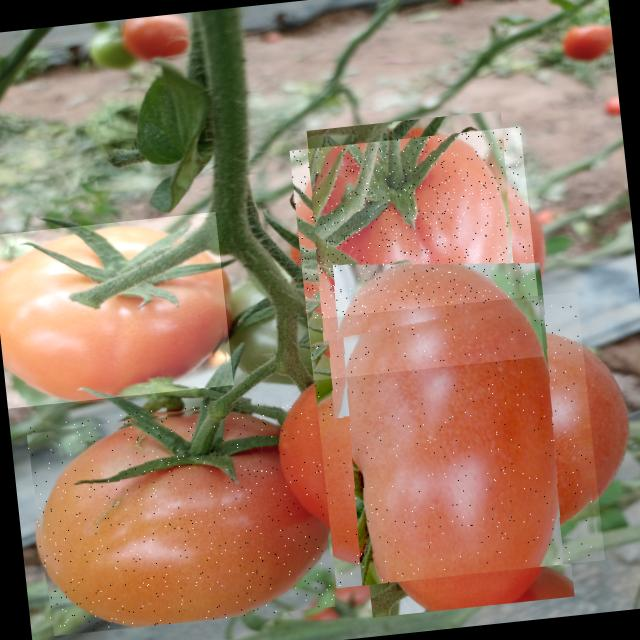Ripe Tomato: (308, 292, 605, 588), (25, 394, 335, 636), (289, 126, 544, 380), (0, 211, 233, 408)
